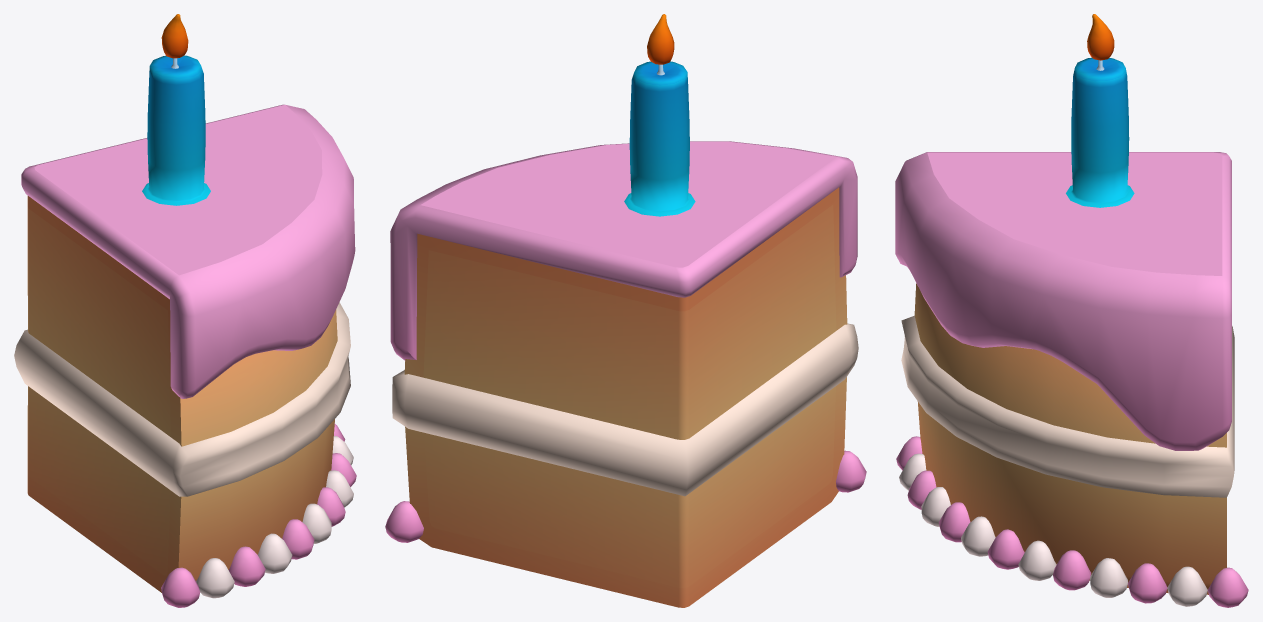
The model's file is Cake_Cherry_Slice_V3_00.fbx.
The picture shows the model from 3 angles, left to right: view 1: azimuth 30°, elevation 25°; view 2: azimuth 150°, elevation 25°; view 3: azimuth 270°, elevation 25°; orthographic projection. The views are drawn at different scales.
Parts seen in each view (by area): view 1: Cake_Cherry_Slice_V3_00; view 2: Cake_Cherry_Slice_V3_00; view 3: Cake_Cherry_Slice_V3_00.
Part boxes in pixels (x1=…): Cake_Cherry_Slice_V3_00: x1=14, y1=14, x2=356, y2=607; Cake_Cherry_Slice_V3_00: x1=385, y1=14, x2=866, y2=607; Cake_Cherry_Slice_V3_00: x1=895, y1=14, x2=1248, y2=607.
Bounding box in the file's own units: 34.82 × 55.09 × 35.03.
